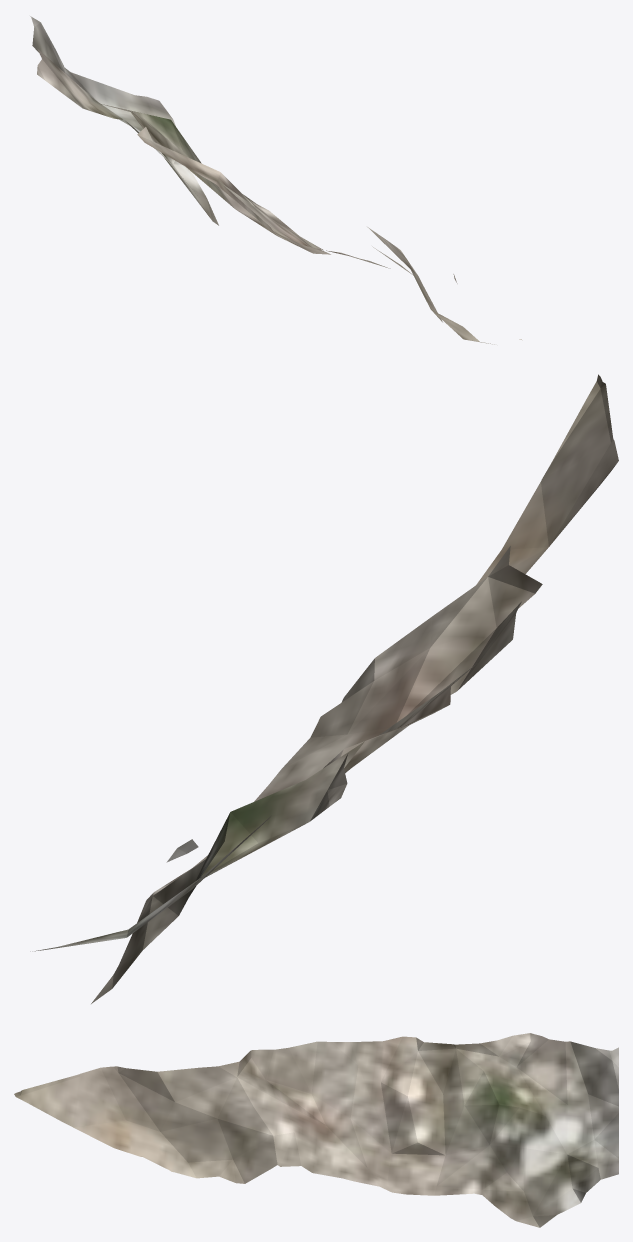
3 renders of one model, top to bottom at view 1: azimuth 30°, elevation 25°; view 2: azimuth 150°, elevation 25°; view 3: azimuth 270°, elevation 25°, orthographic. The views are drawn at different scales.
Bounding box in the file's own units: 0.4056 × 0.4153 × 1.7.
Materials: 1 (1 with a texture image).
